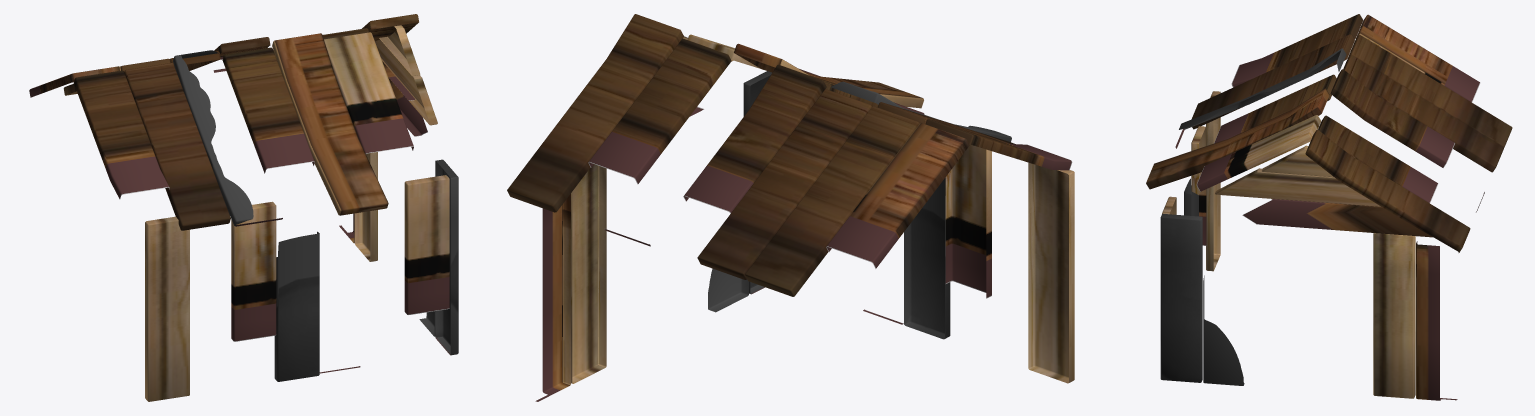
The model's file is CABAÑA MADERA.FBX.
3 views of the same model, side by side, from view 1: azimuth 30°, elevation 25°; view 2: azimuth 150°, elevation 25°; view 3: azimuth 270°, elevation 25° (orthographic). The views are drawn at different scales.
Visible parts, largest first — view 1: CASA MADERA; view 2: CASA MADERA; view 3: CASA MADERA.
Part boxes in pixels (box(x1,y1,x2,y2)): CASA MADERA: box(29, 14, 458, 401); CASA MADERA: box(507, 14, 1074, 401); CASA MADERA: box(1146, 14, 1512, 400).
Size of the model in its own units: 132 by 93.43 by 127.
